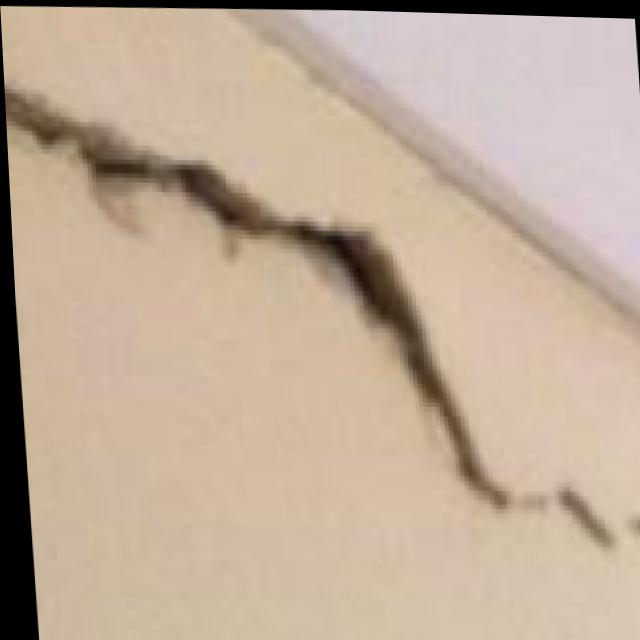Crack: (2, 60, 296, 256), (296, 189, 476, 426), (374, 413, 640, 539)
